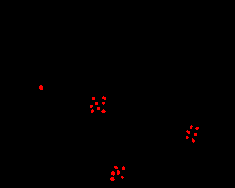Target: (39, 85, 43, 90), (101, 109, 106, 113), (111, 171, 115, 176), (110, 177, 115, 181), (102, 96, 106, 100), (186, 130, 190, 134), (192, 138, 195, 143), (117, 170, 120, 175), (91, 109, 94, 113), (190, 125, 193, 129), (195, 127, 199, 130), (114, 166, 118, 169), (122, 166, 125, 170), (92, 97, 95, 100), (95, 102, 98, 105), (102, 102, 105, 105), (90, 105, 93, 108), (97, 107, 100, 110), (194, 133, 197, 136), (186, 136, 189, 139), (121, 176, 124, 179)
